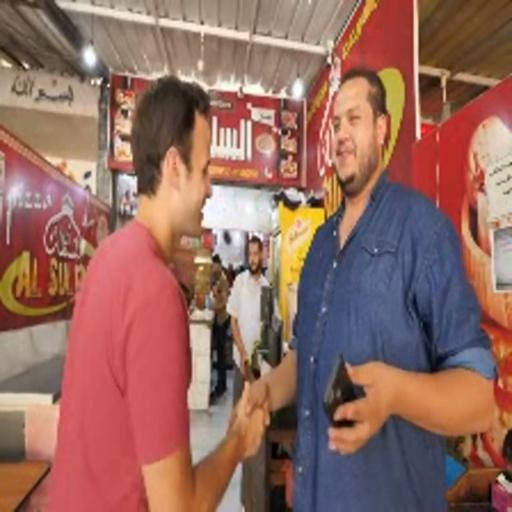nao-violencia: (42, 51, 504, 512)
